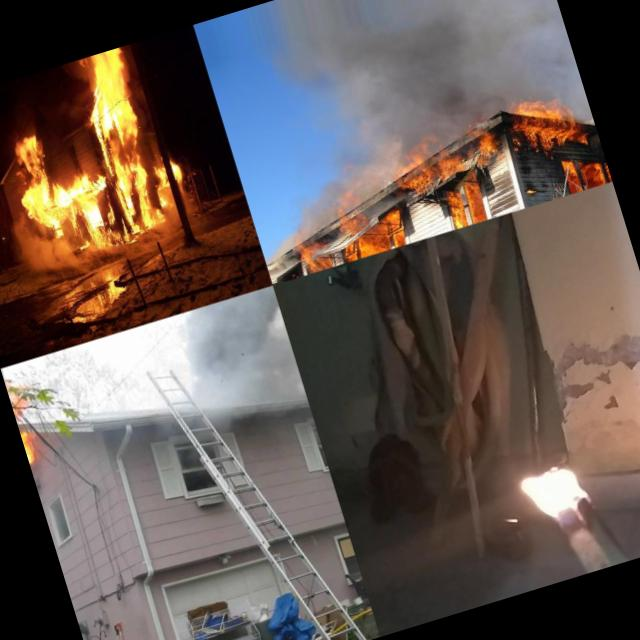fire: (0, 42, 178, 235), (502, 410, 610, 553), (388, 112, 509, 204), (503, 82, 599, 162), (322, 190, 408, 264), (73, 196, 168, 248), (7, 386, 46, 463), (556, 148, 612, 195), (442, 182, 492, 230), (283, 230, 332, 278), (167, 154, 187, 182)
smoke: (255, 0, 582, 174), (172, 285, 308, 432), (81, 215, 200, 276), (301, 144, 402, 214), (13, 225, 88, 289), (161, 186, 200, 222), (5, 208, 33, 242)
